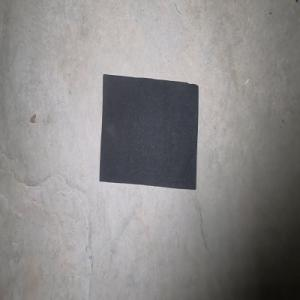PaintChip: (99, 73, 198, 190)
